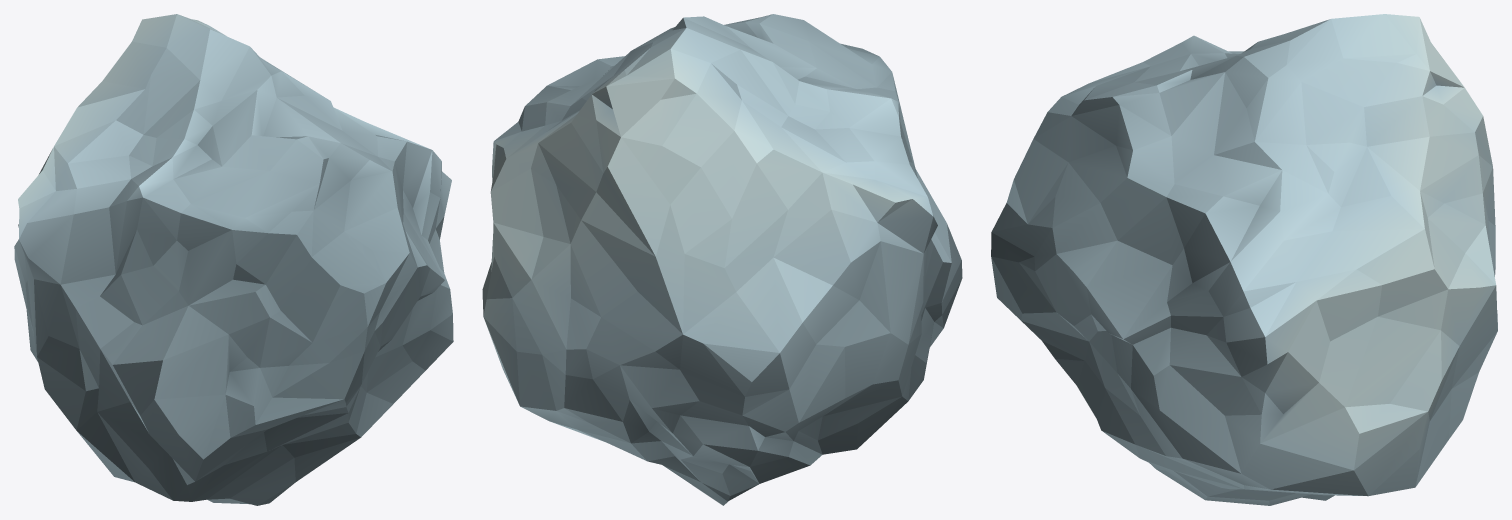
The model's file is geology-crystals-snowparticle_v4.glb.
3 renders of one model, left to right at view 1: azimuth 30°, elevation 25°; view 2: azimuth 150°, elevation 25°; view 3: azimuth 270°, elevation 25°, orthographic. The views are drawn at different scales.
Visible parts, largest first — view 1: snowparticle_v4; view 2: snowparticle_v4; view 3: snowparticle_v4.
Part boxes in pixels (x1,y1,x2,y2): snowparticle_v4: (14,14,453,505); snowparticle_v4: (482,14,962,505); snowparticle_v4: (991,14,1497,505).
Size of the model in its own units: 6.6 by 6.65 by 6.1.
